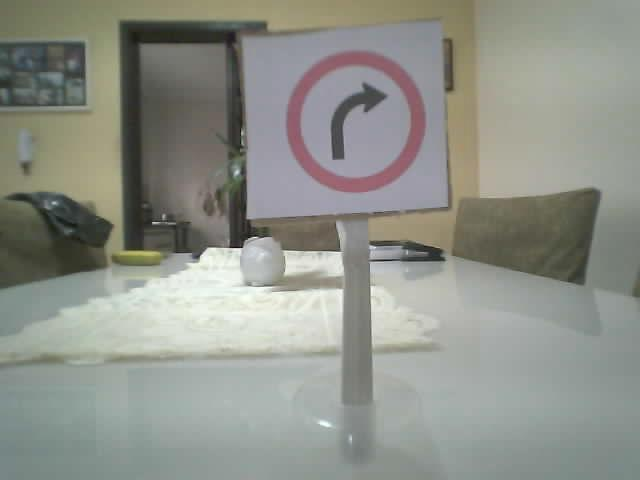R-25b_direita: (283, 49, 426, 193)
